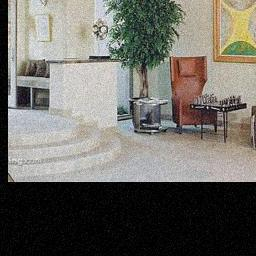Escaleras: (11, 113, 120, 169)
Matera: (108, 0, 172, 132)
